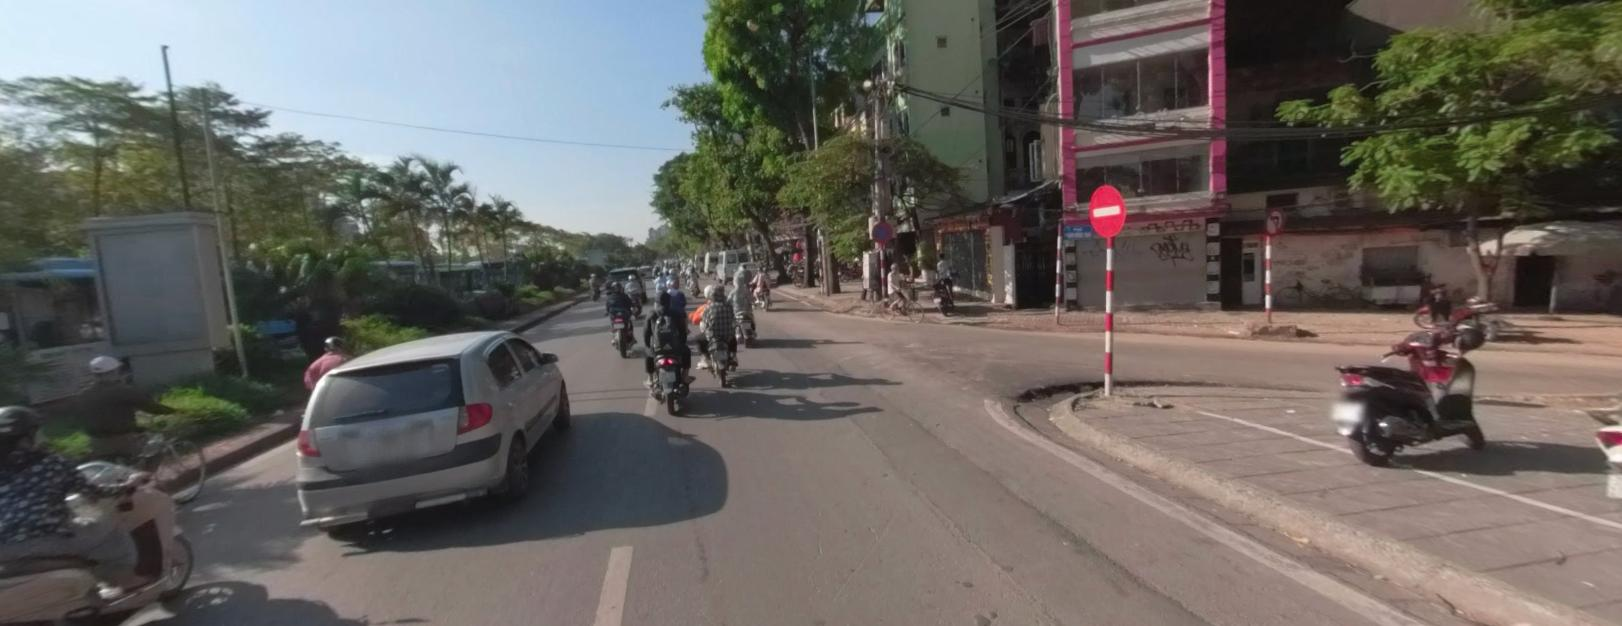Cam dung va do: (872, 221, 892, 241)
Cam nguoc chieu: (1088, 183, 1125, 236)
Cam re: (1266, 208, 1283, 234)
